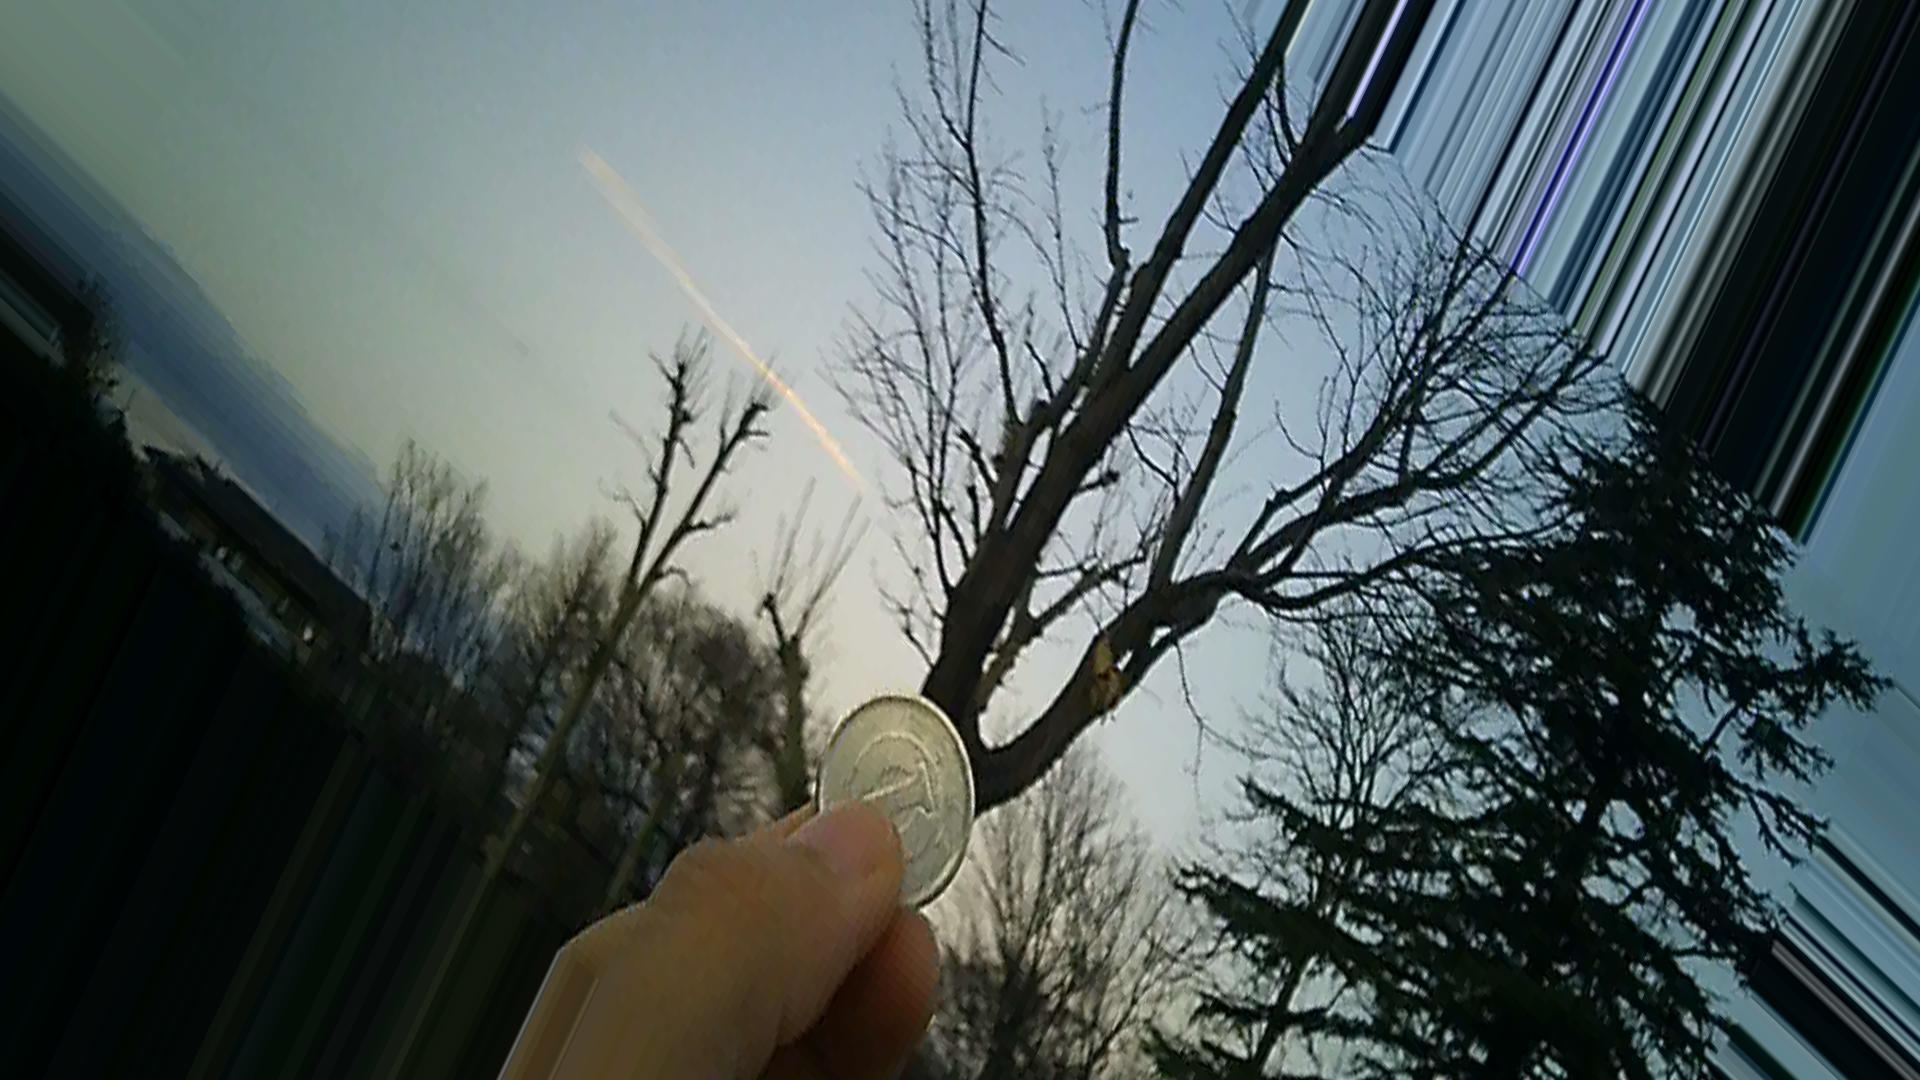1 Yen: (814, 698, 986, 934)
